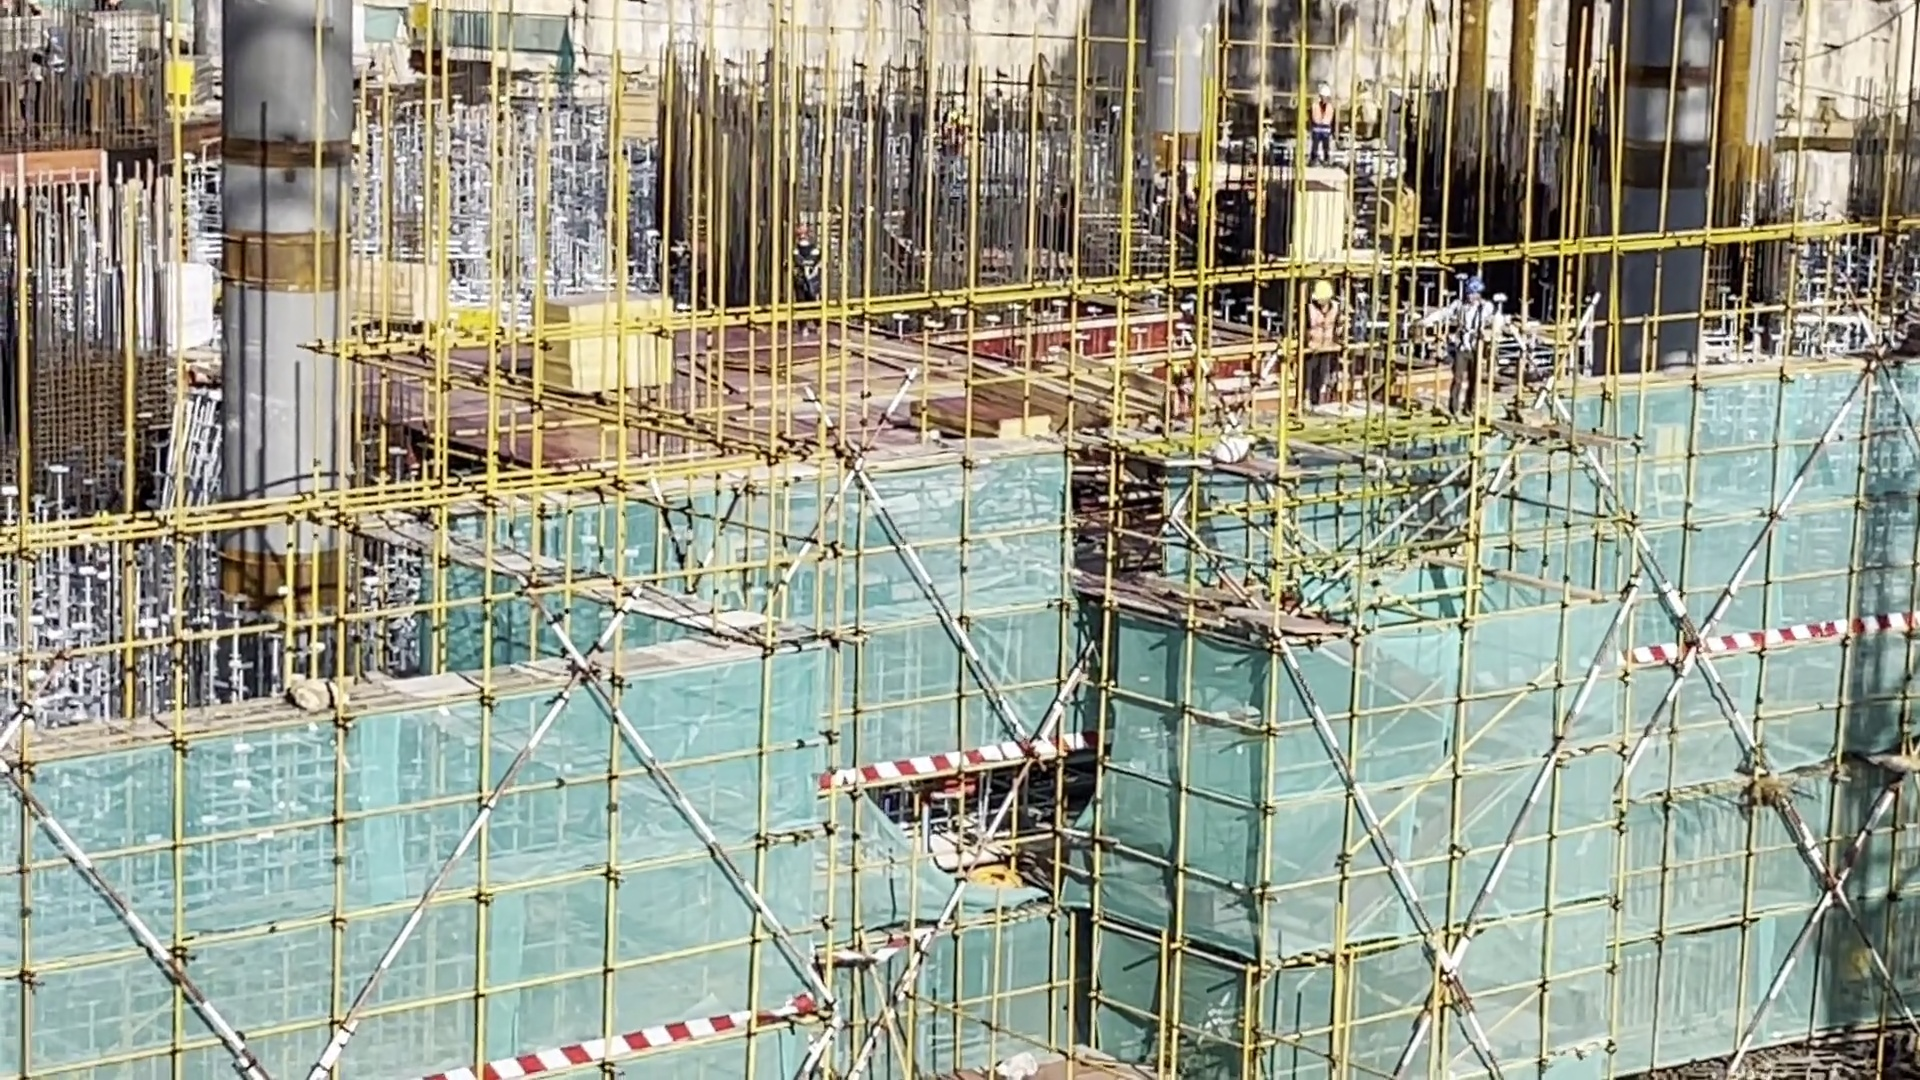helmet: (1310, 280, 1334, 298), (785, 228, 807, 243), (1470, 280, 1483, 299), (648, 229, 661, 245), (1319, 84, 1332, 98)
person: (1436, 273, 1494, 405), (1296, 266, 1349, 396), (784, 210, 834, 343), (637, 226, 706, 310), (1301, 86, 1329, 161)
vest: (656, 231, 703, 282), (1444, 306, 1478, 351), (1309, 312, 1339, 359), (799, 247, 821, 302), (1307, 99, 1328, 139)
